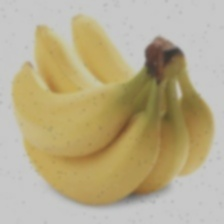banana: (40, 23, 183, 224)
